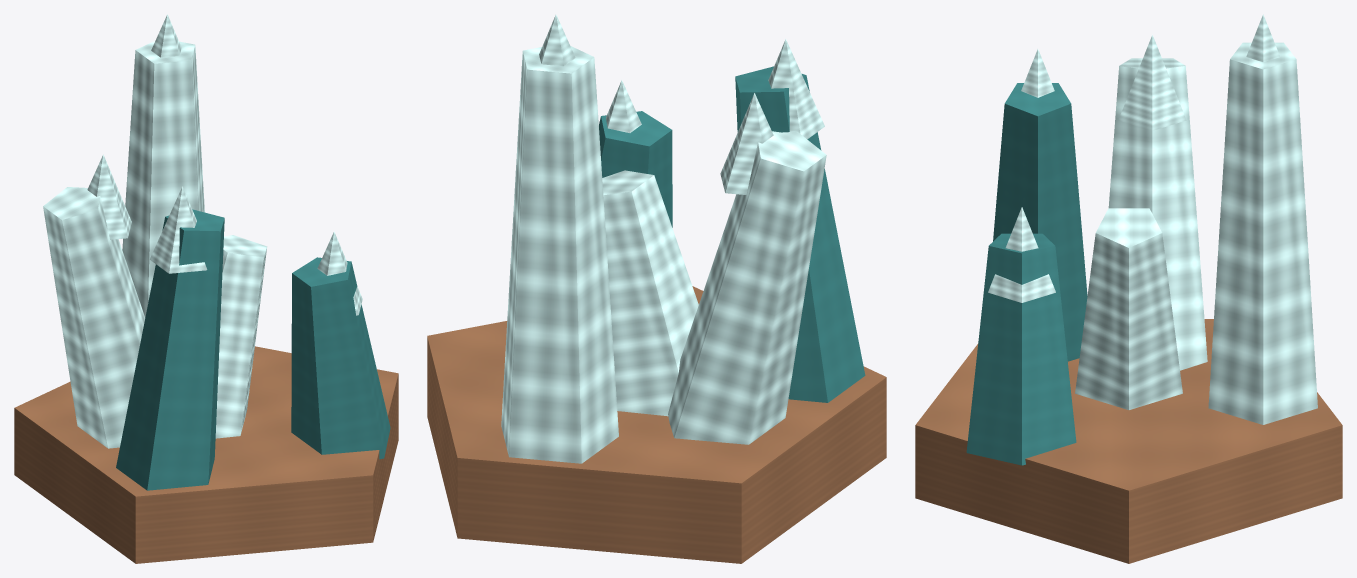
The model's file is atlas100-s092-a04.lod1.glb.
The picture shows the model from 3 angles, left to right: view 1: azimuth 30°, elevation 25°; view 2: azimuth 150°, elevation 25°; view 3: azimuth 270°, elevation 25°; orthographic projection. The views are drawn at different scales.
Parts seen in each view (by area): view 1: atlas100-s092-a04:part-000, atlas100-s092-a04:part-003, atlas100-s092-a04:part-009, atlas100-s092-a04:part-007, atlas100-s092-a04:part-005, atlas100-s092-a04:part-001, atlas100-s092-a04:part-004, atlas100-s092-a04:part-010, atlas100-s092-a04:part-008, atlas100-s092-a04:part-006; view 2: atlas100-s092-a04:part-000, atlas100-s092-a04:part-005, atlas100-s092-a04:part-009, atlas100-s092-a04:part-001, atlas100-s092-a04:part-003, atlas100-s092-a04:part-007, atlas100-s092-a04:part-010, atlas100-s092-a04:part-004, atlas100-s092-a04:part-006, atlas100-s092-a04:part-008; view 3: atlas100-s092-a04:part-000, atlas100-s092-a04:part-005, atlas100-s092-a04:part-007, atlas100-s092-a04:part-001, atlas100-s092-a04:part-009, atlas100-s092-a04:part-003, atlas100-s092-a04:part-010, atlas100-s092-a04:part-008, atlas100-s092-a04:part-004, atlas100-s092-a04:part-006.
Part boxes in pixels (left/top/right/bottom): atlas100-s092-a04:part-000: left=14, top=346, right=398, bottom=563; atlas100-s092-a04:part-003: left=116, top=209, right=224, bottom=490; atlas100-s092-a04:part-009: left=43, top=187, right=145, bottom=448; atlas100-s092-a04:part-007: left=291, top=257, right=390, bottom=459; atlas100-s092-a04:part-005: left=122, top=41, right=204, bottom=317; atlas100-s092-a04:part-001: left=215, top=235, right=267, bottom=438; atlas100-s092-a04:part-004: left=150, top=186, right=207, bottom=273; atlas100-s092-a04:part-010: left=87, top=154, right=131, bottom=239; atlas100-s092-a04:part-008: left=317, top=231, right=362, bottom=315; atlas100-s092-a04:part-006: left=151, top=14, right=181, bottom=57; atlas100-s092-a04:part-000: left=427, top=286, right=886, bottom=563; atlas100-s092-a04:part-005: left=501, top=46, right=618, bottom=463; atlas100-s092-a04:part-009: left=668, top=131, right=826, bottom=444; atlas100-s092-a04:part-001: left=602, top=170, right=698, bottom=416; atlas100-s092-a04:part-003: left=735, top=66, right=865, bottom=402; atlas100-s092-a04:part-007: left=599, top=111, right=672, bottom=227; atlas100-s092-a04:part-010: left=720, top=93, right=773, bottom=194; atlas100-s092-a04:part-004: left=768, top=39, right=824, bottom=139; atlas100-s092-a04:part-006: left=539, top=14, right=575, bottom=66; atlas100-s092-a04:part-008: left=606, top=80, right=641, bottom=132; atlas100-s092-a04:part-000: left=915, top=319, right=1342, bottom=563; atlas100-s092-a04:part-005: left=1208, top=42, right=1317, bottom=424; atlas100-s092-a04:part-007: left=966, top=233, right=1076, bottom=465; atlas100-s092-a04:part-001: left=1075, top=208, right=1182, bottom=409; atlas100-s092-a04:part-009: left=1108, top=58, right=1207, bottom=370; atlas100-s092-a04:part-003: left=993, top=83, right=1087, bottom=361; atlas100-s092-a04:part-010: left=1118, top=34, right=1186, bottom=130; atlas100-s092-a04:part-008: left=988, top=207, right=1055, bottom=302; atlas100-s092-a04:part-004: left=1021, top=49, right=1054, bottom=97; atlas100-s092-a04:part-006: left=1246, top=14, right=1279, bottom=62.
Size of the model in its own units: 1 by 1.21 by 1.02.
3 materials, 3 textured.
